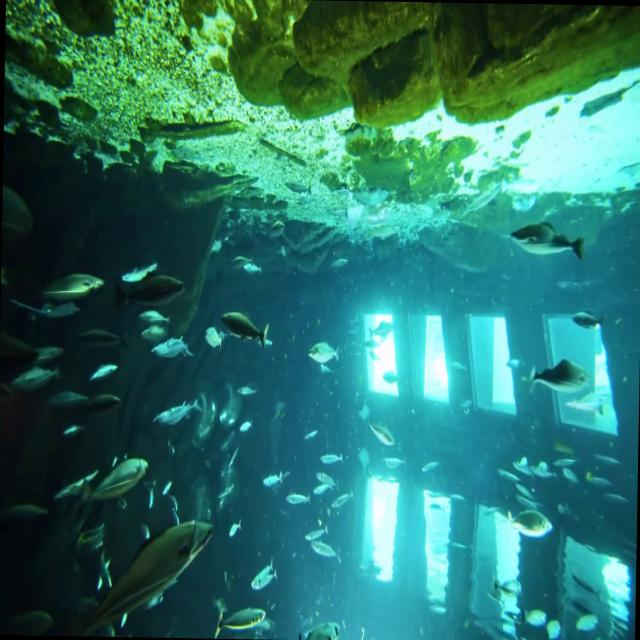fish: (76, 516, 219, 638), (77, 457, 153, 511), (526, 349, 592, 406), (32, 266, 105, 317), (508, 218, 585, 266), (500, 496, 560, 550), (349, 390, 395, 459), (148, 389, 212, 438), (113, 278, 187, 319), (211, 590, 272, 639), (211, 312, 273, 354), (301, 331, 350, 372), (8, 364, 59, 400), (297, 608, 349, 640), (143, 336, 200, 365), (74, 398, 124, 428), (313, 530, 347, 568), (304, 518, 329, 546), (248, 570, 278, 593)
